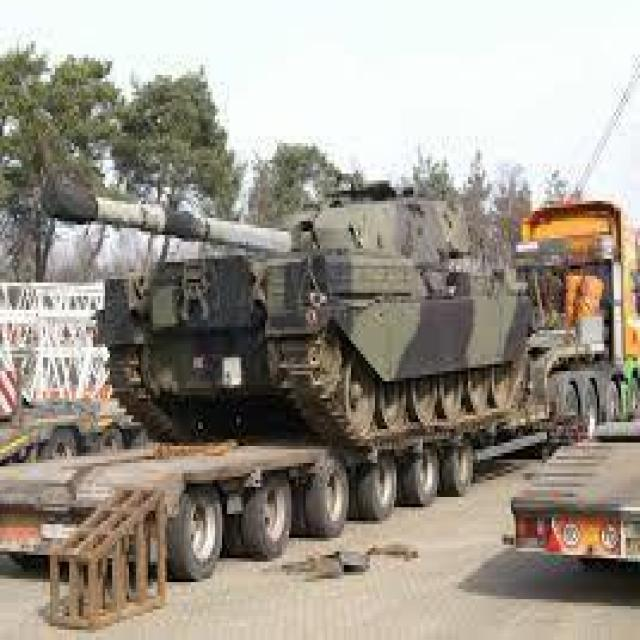Tanks: (49, 172, 536, 431)
